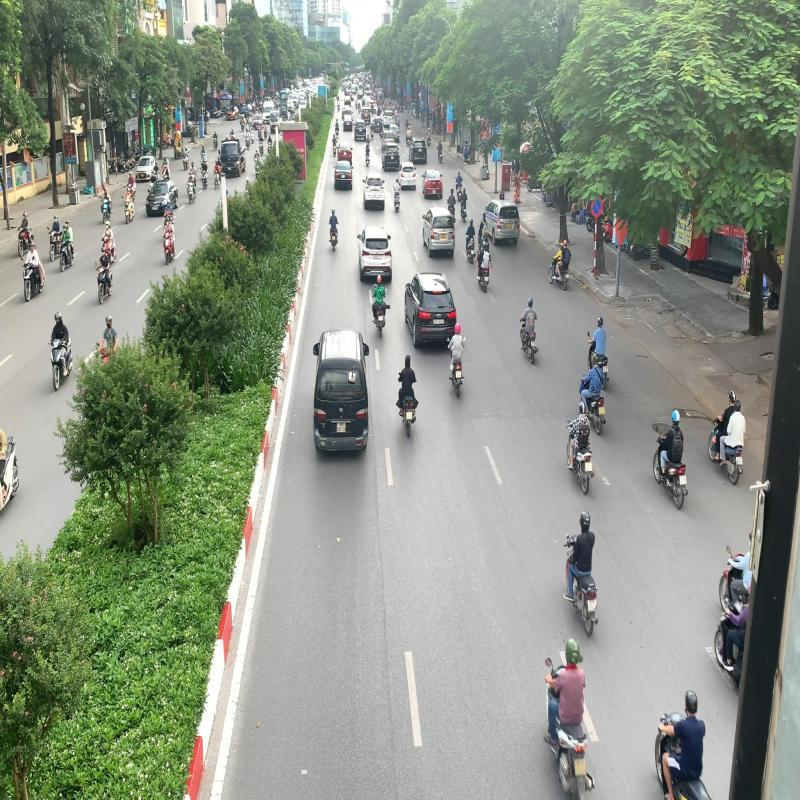helmet: (565, 638, 581, 665), (579, 510, 591, 531), (672, 409, 680, 424), (579, 401, 586, 414), (454, 323, 461, 334), (528, 297, 533, 307)
licenseplate: (574, 758, 587, 778), (588, 598, 598, 613), (679, 474, 687, 485), (584, 461, 592, 472), (455, 371, 461, 378), (530, 341, 536, 347)
motorcyclist: (542, 637, 596, 800), (563, 510, 600, 639), (652, 409, 689, 509), (565, 401, 596, 495), (446, 323, 466, 398), (519, 297, 539, 364)
